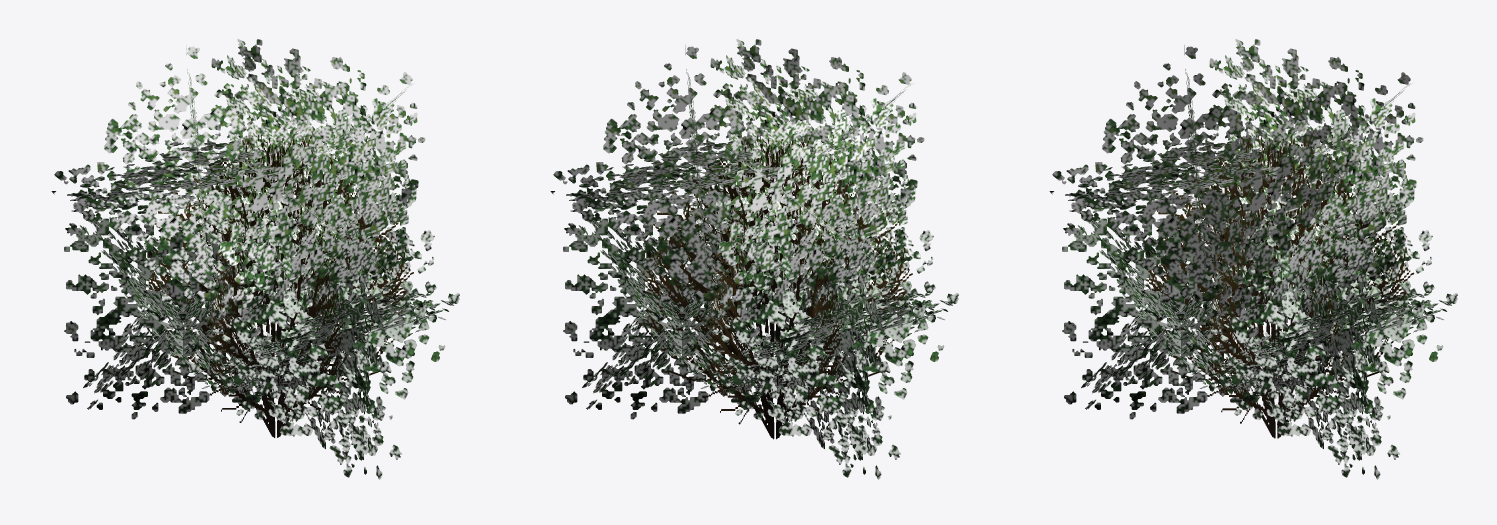
The model's file is sleedoorn_1.fbx.
The picture shows the model from 3 angles, left to right: view 1: azimuth 30°, elevation 25°; view 2: azimuth 150°, elevation 25°; view 3: azimuth 270°, elevation 25°; orthographic projection.
Parts seen in each view (by area): view 1: sleedoorn_1; view 2: sleedoorn_1; view 3: sleedoorn_1.
Boxes of the visible parts, bbox=[...] form: sleedoorn_1: bbox=[51, 39, 459, 479]; sleedoorn_1: bbox=[550, 39, 958, 479]; sleedoorn_1: bbox=[1049, 39, 1457, 479].
Bounding box in the file's own units: 500 × 448 × 517.
